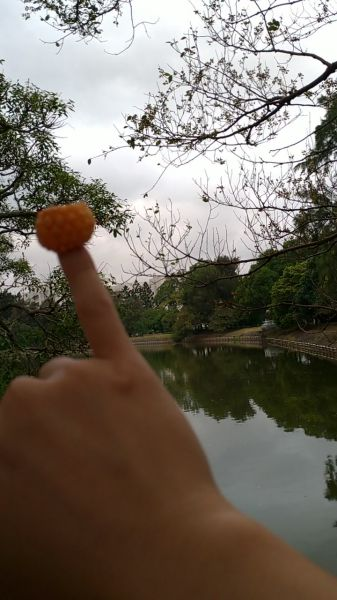eggs: (36, 203, 94, 253)
